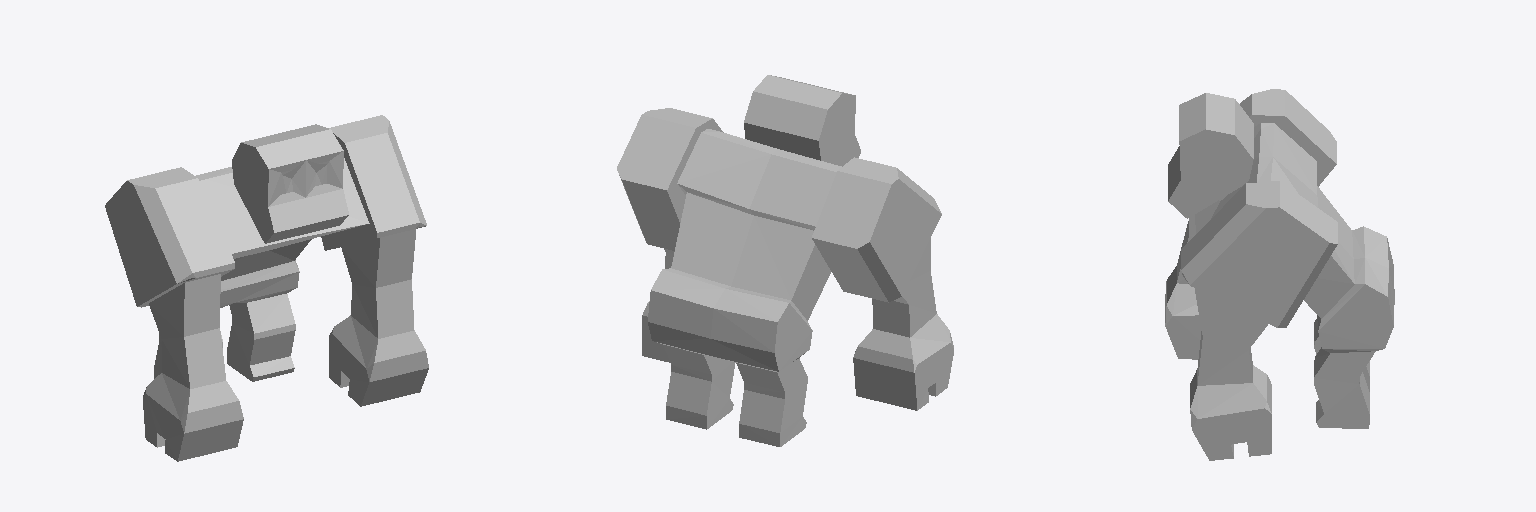
The model's file is kong_000002.obj.
3 views of the same model, side by side, from view 1: azimuth 30°, elevation 25°; view 2: azimuth 150°, elevation 25°; view 3: azimuth 270°, elevation 25° (orthographic).
Parts seen in each view (by area): view 1: Cube; view 2: Cube; view 3: Cube.
Part boxes in pixels (left/top/right/bottom): Cube: left=105, top=115, right=428, bottom=461; Cube: left=617, top=75, right=953, bottom=446; Cube: left=1165, top=89, right=1394, bottom=460.
Size of the model in its own units: 5.84 by 6.23 by 4.47.